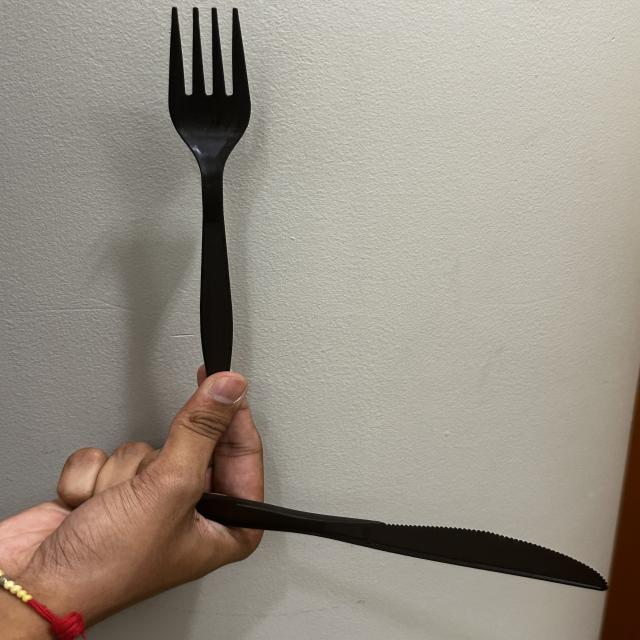fork: (132, 0, 296, 394)
knife: (140, 467, 617, 604)
